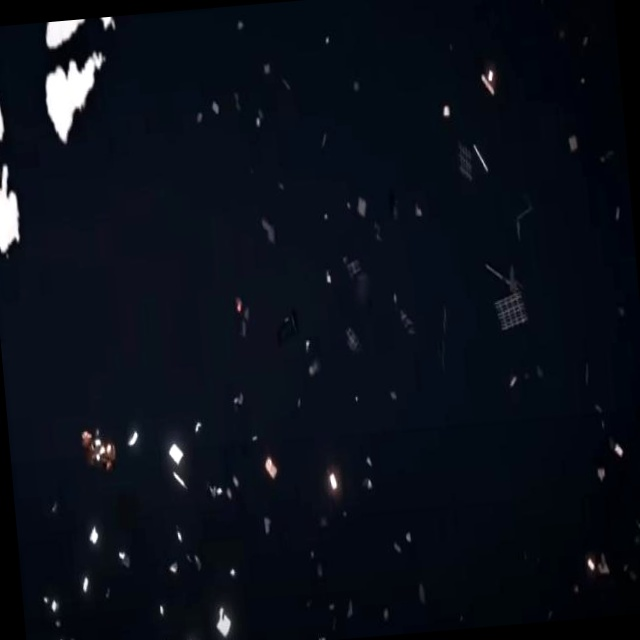large_debris: (586, 407, 640, 511), (491, 272, 540, 354), (574, 524, 616, 602), (76, 410, 118, 483), (257, 437, 287, 515), (479, 49, 510, 121), (229, 288, 262, 349), (161, 431, 190, 495), (206, 588, 239, 640), (208, 465, 239, 513), (324, 458, 347, 517), (466, 136, 492, 187), (86, 522, 111, 560), (342, 327, 359, 370), (166, 544, 183, 585), (125, 428, 146, 459)
